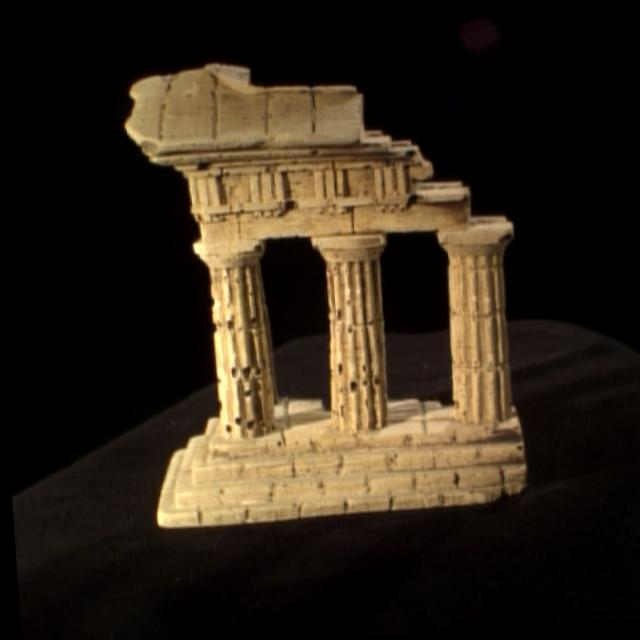Instance-Segmentation: (126, 63, 525, 526)
